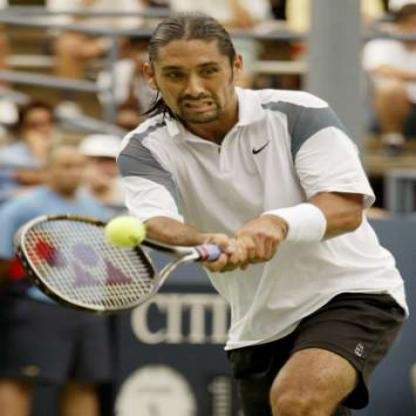face: (156, 17, 234, 124), (50, 146, 91, 192), (86, 142, 126, 182), (23, 107, 56, 146)
